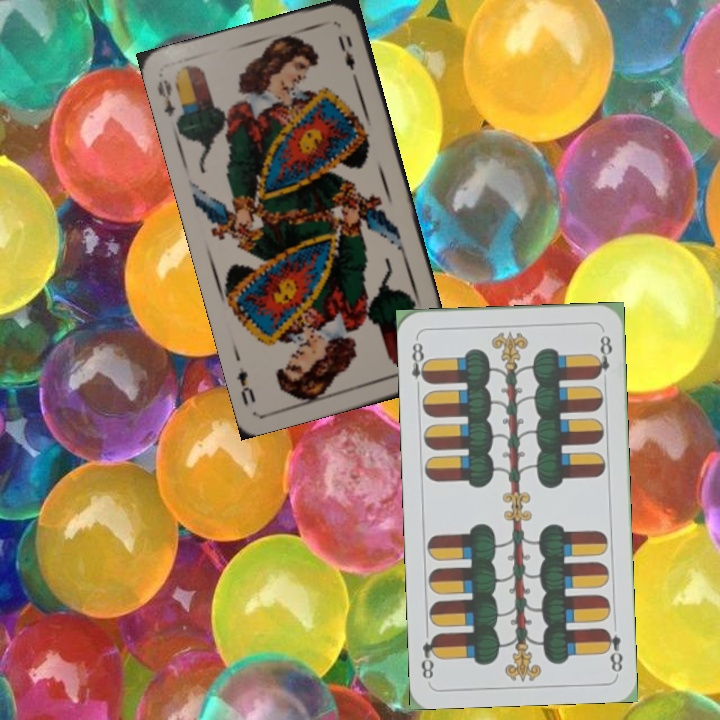E8: (408, 334, 432, 393), (600, 624, 625, 675)
EO: (153, 75, 178, 119)
